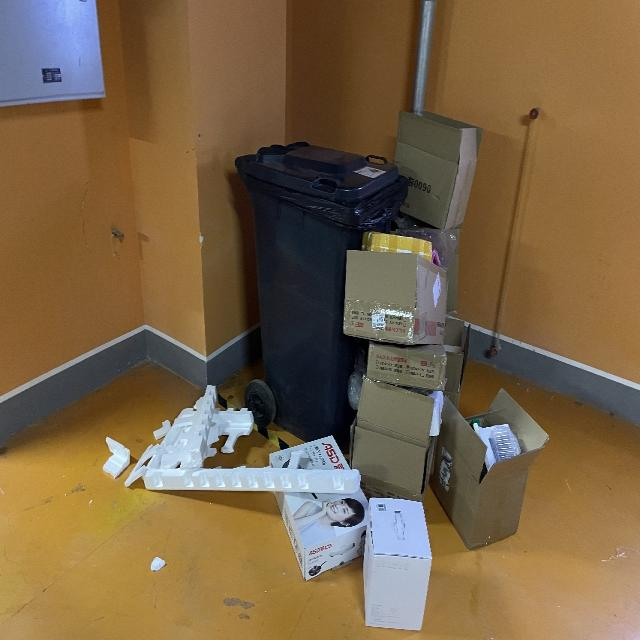garbage: (102, 110, 549, 630)
garbage_bin: (232, 139, 404, 441)
